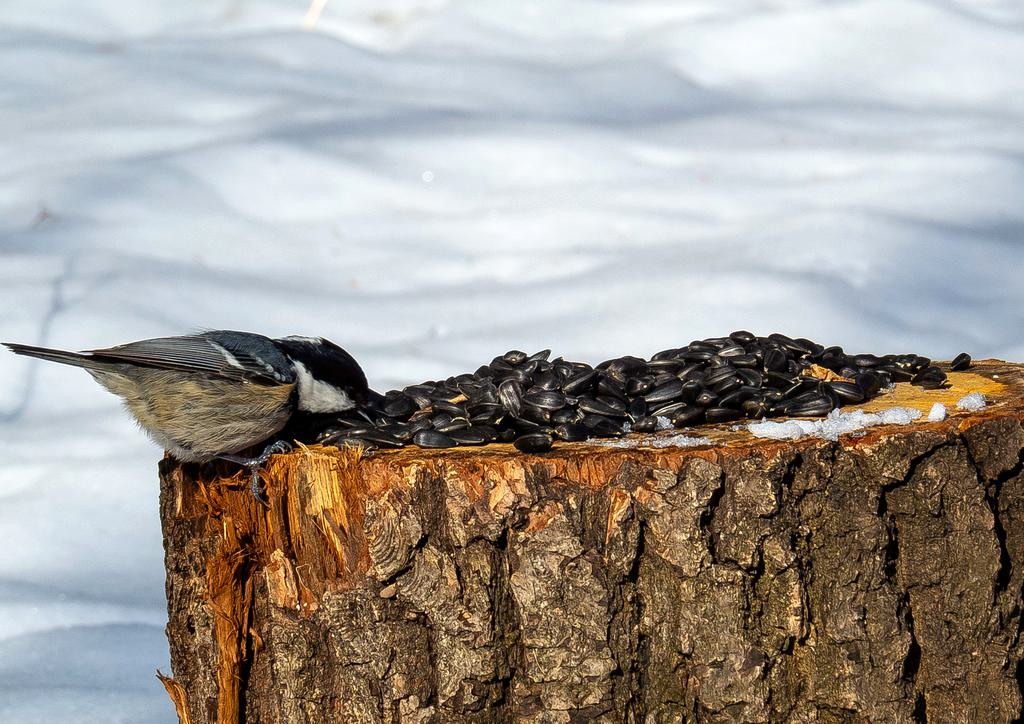PeriparusAter: (0, 328, 385, 510)
